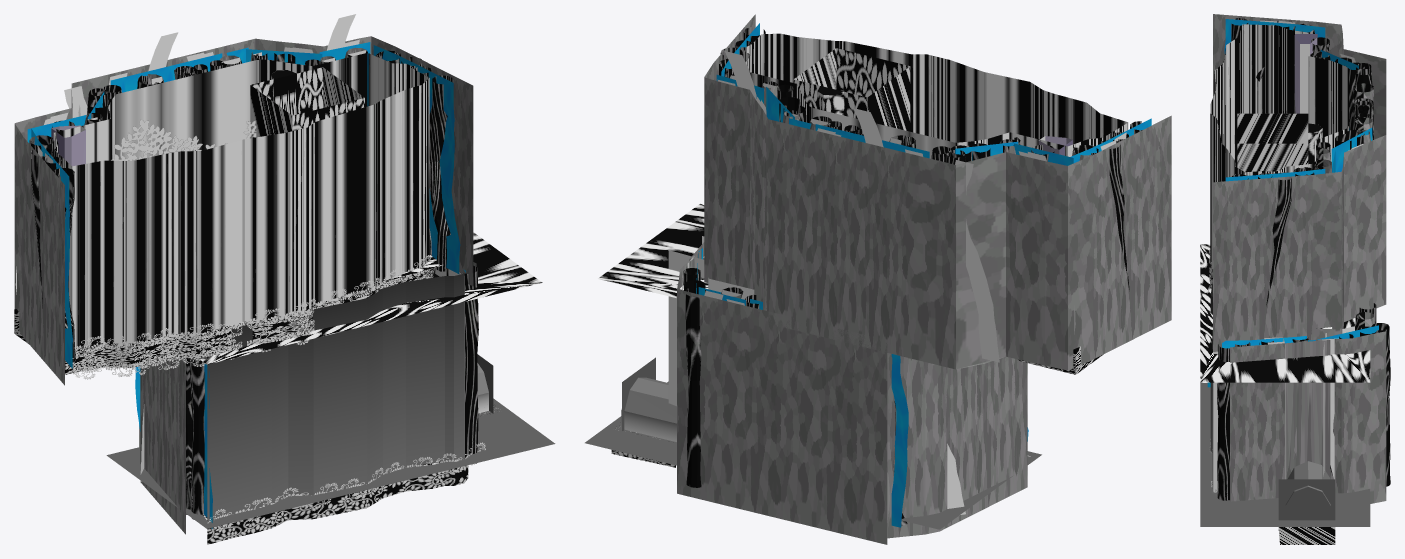
The model's file is mri_13.dae.
3 renders of one model, left to right at view 1: azimuth 30°, elevation 25°; view 2: azimuth 150°, elevation 25°; view 3: azimuth 270°, elevation 25°, orthographic. The views are drawn at different scales.
Parts seen in each view (by area): view 1: polySurface144_q00011, A_yuka_kabe_mae1, S_oku, A_f1_yuka, S_f1_oku_01_part1, S_oku_04_part1, S_oku_05_part1, S_f1_oku, A_f1_ten, A_f2_rak, polySurface124_q00026, polySurface167 (+19 smaller); view 2: S_oku, S_f1_oku_01_part1, polySurface144_q00011, A_f2_rak, A_f1_ten, S_f1_oku, A_f1_yuka, S_oku_05_part1, S_f1_oku_01_part0, S_oku_02_part1, S_f1_oku_08_part0, S_oku_04_part1 (+5 smaller); view 3: S_oku, S_f1_oku_01_part1, polySurface140_q00009, A_f1_ten, A_f1_yuka, polySurface154_q00000, A_f2_rak, polySurface144_q00011, S_f1_oku, S_oku_05_part1, pPlane32, S_oku_04_part1 (+9 smaller).
Boxes of the visible parts, x1,y1,x2,y2 form: polySurface144_q00011: (72,78,429,347); A_yuka_kabe_mae1: (207,273,464,520); S_oku: (14,36,473,385); A_f1_yuka: (106,398,555,528); S_f1_oku_01_part1: (139,262,476,534); S_oku_04_part1: (27,42,460,368); S_oku_05_part1: (31,50,453,362); S_f1_oku: (186,265,478,519); A_f1_ten: (198,232,542,364); A_f2_rak: (250,67,364,138); polySurface124_q00026: (207,465,468,544); polySurface167: (177,66,231,151); S_oku: (704,14,1171,370); S_f1_oku_01_part1: (677,242,1027,544); polySurface144_q00011: (761,33,1127,144); A_f2_rak: (793,48,910,131); A_f1_ten: (598,204,708,297); S_f1_oku: (683,248,907,525); A_f1_yuka: (585,381,1041,529); S_oku_05_part1: (719,27,1141,164); S_f1_oku_01_part0: (621,377,676,441); S_oku_02_part1: (717,79,1126,362); S_f1_oku_08_part0: (698,287,908,527); S_oku_04_part1: (716,23,1151,165); S_oku: (1213,14,1386,351); S_f1_oku_01_part1: (1230,331,1386,503); polySurface140_q00009: (1242,24,1348,137); A_f1_ten: (1200,244,1370,382); A_f1_yuka: (1200,383,1370,526); polySurface154_q00000: (1285,340,1330,479); A_f2_rak: (1237,113,1322,172); polySurface144_q00011: (1210,24,1244,269); S_f1_oku: (1217,303,1390,500); S_oku_05_part1: (1231,23,1373,307); pPlane32: (1278,479,1335,530); S_oku_04_part1: (1224,19,1372,181).
Bounding box in the file's own units: 83.11 × 69.64 × 33.61.
